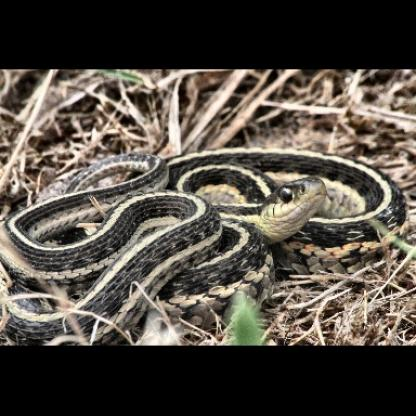Snake: (3, 138, 416, 346)
